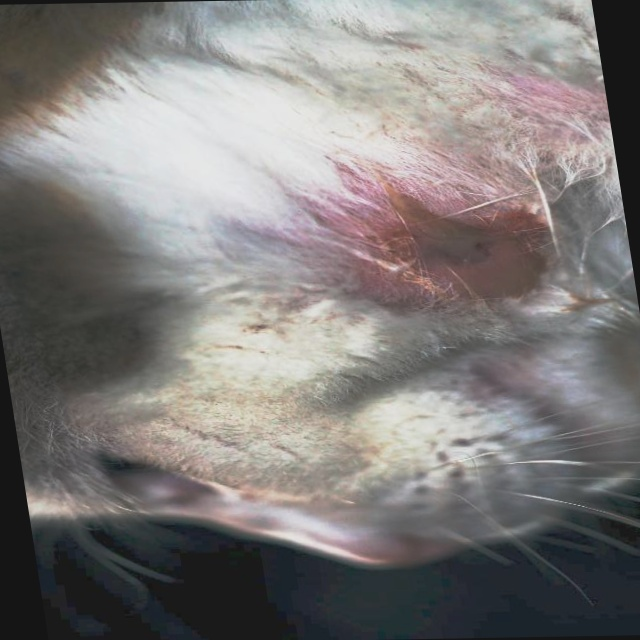lump_and_bump: (351, 213, 561, 309)
